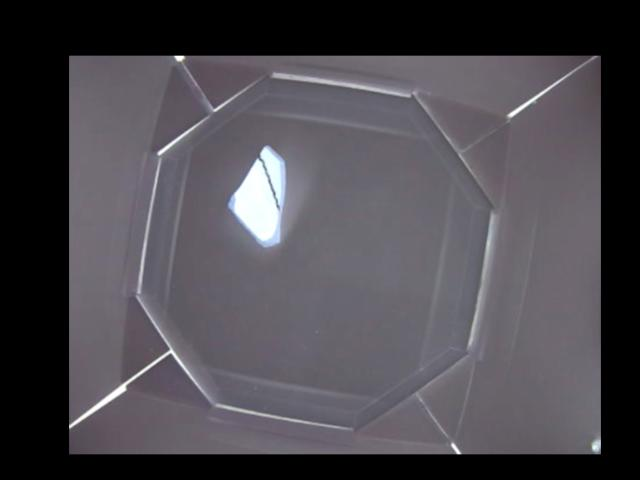China: (226, 144, 289, 246)
